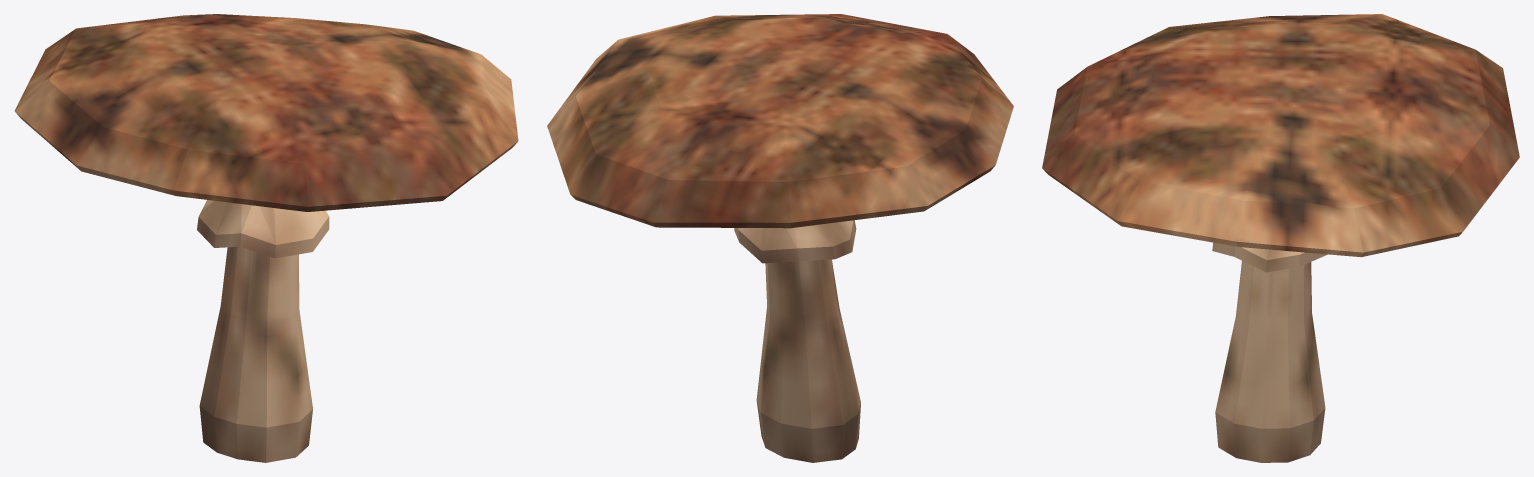
The model's file is Cogumelo-03-Chapeu-Largo.glb.
The picture shows the model from 3 angles, left to right: view 1: azimuth 30°, elevation 25°; view 2: azimuth 150°, elevation 25°; view 3: azimuth 270°, elevation 25°; orthographic projection.
Visible parts, largest first — view 1: Chapéu largo; view 2: Chapéu largo; view 3: Chapéu largo.
Boxes of the visible parts, x1,y1,x2,y2 form: Chapéu largo: (14, 14, 518, 462); Chapéu largo: (547, 14, 1013, 462); Chapéu largo: (1042, 14, 1519, 462).
Bounding box in the file's own units: 0.1958 × 0.169 × 0.1941.
1 material, 1 textured.
